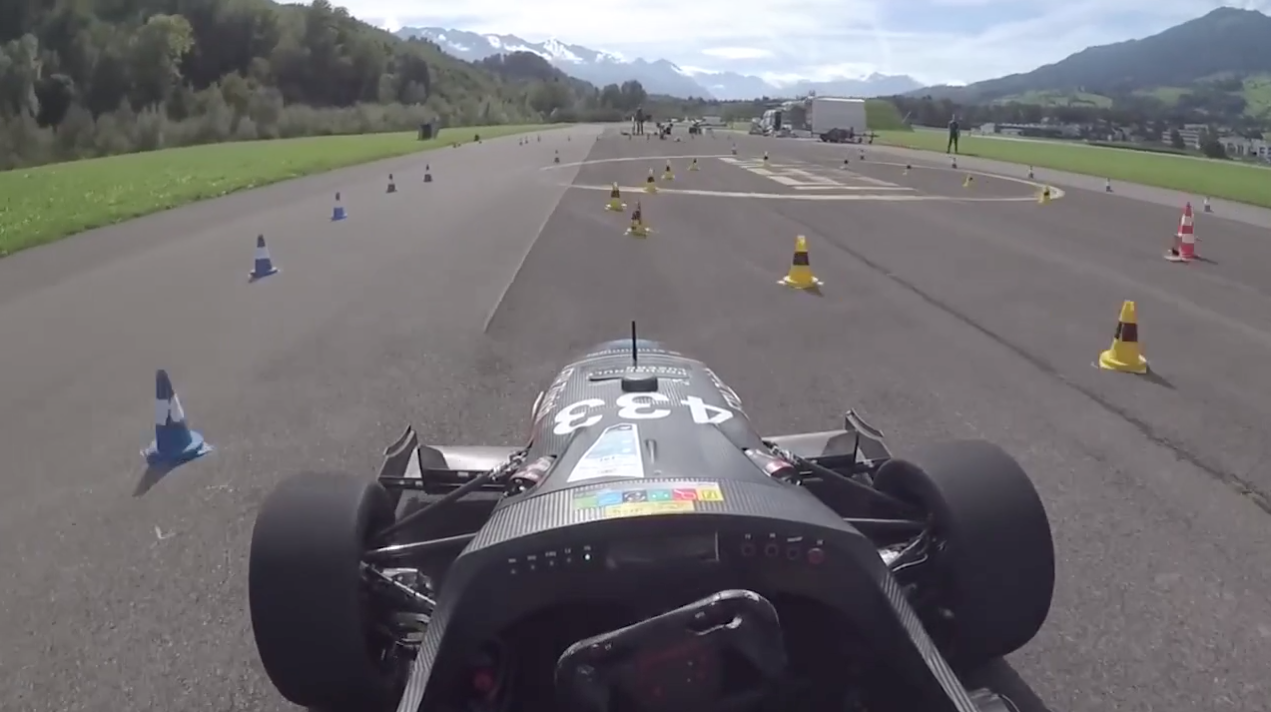lcone: (135, 365, 217, 476), (242, 229, 289, 286), (326, 188, 352, 221)
rcone: (1094, 295, 1160, 377), (774, 231, 826, 295), (621, 197, 655, 241), (604, 180, 628, 212)
